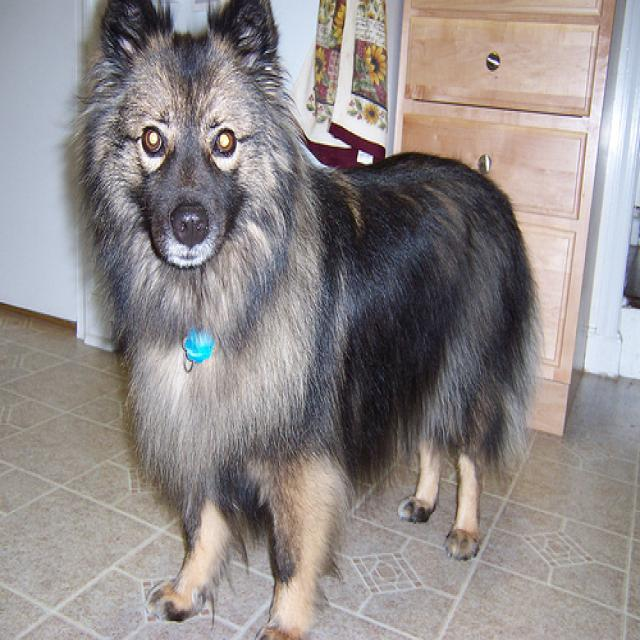dog-keeshond: (67, 2, 544, 637)
